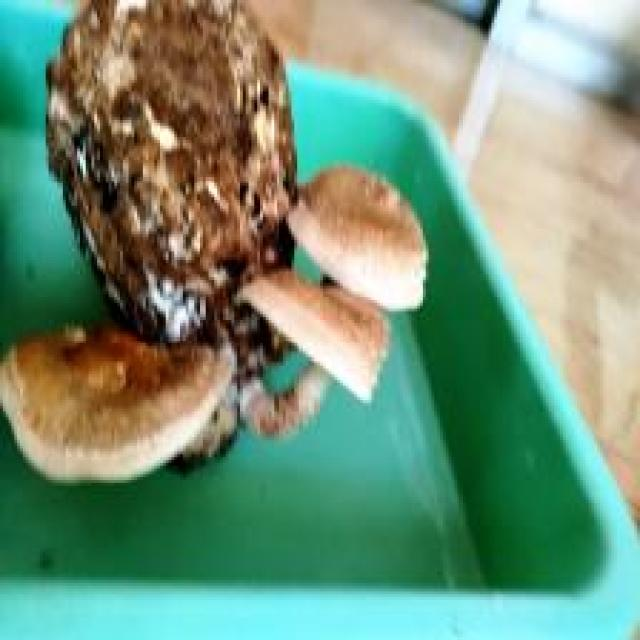chanterelle: (3, 0, 431, 483)
